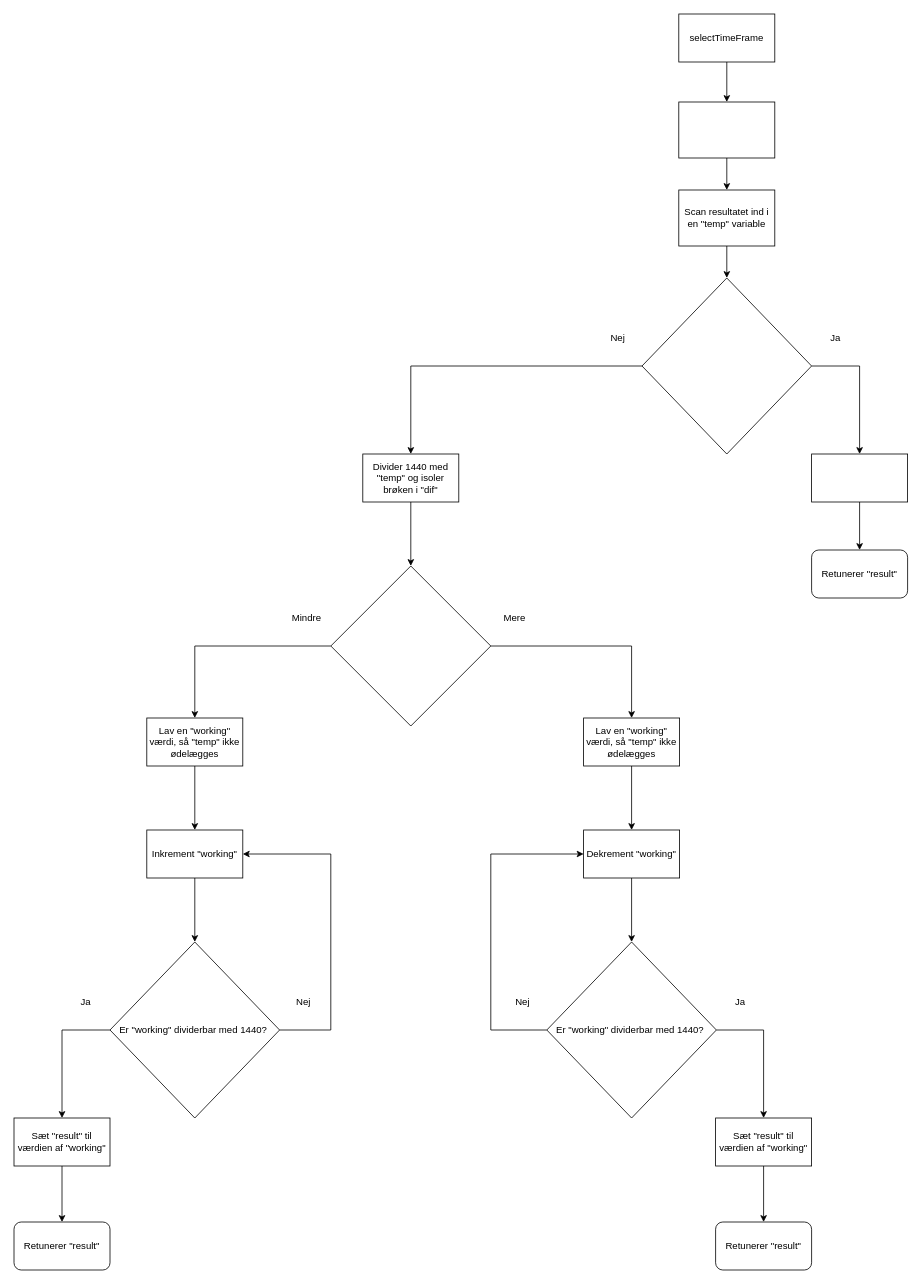
The diagram is 922 pixels wide and 1284 high, and some of its shapes have lost their labels. The box of each missing label's shape, as (x1, y1, x2, y2) in pixels:
Er "dif" mere eller mindre end 0.5?: (330, 565, 491, 726)
Er "temp" dividerbar med 1440? (minutter på en dag): (641, 277, 812, 454)
Prompt bruger om at vælge en tidsramme som data'en skal gruperes efter: (678, 101, 775, 158)
Set "result" til værdien af "temp": (811, 453, 908, 502)
